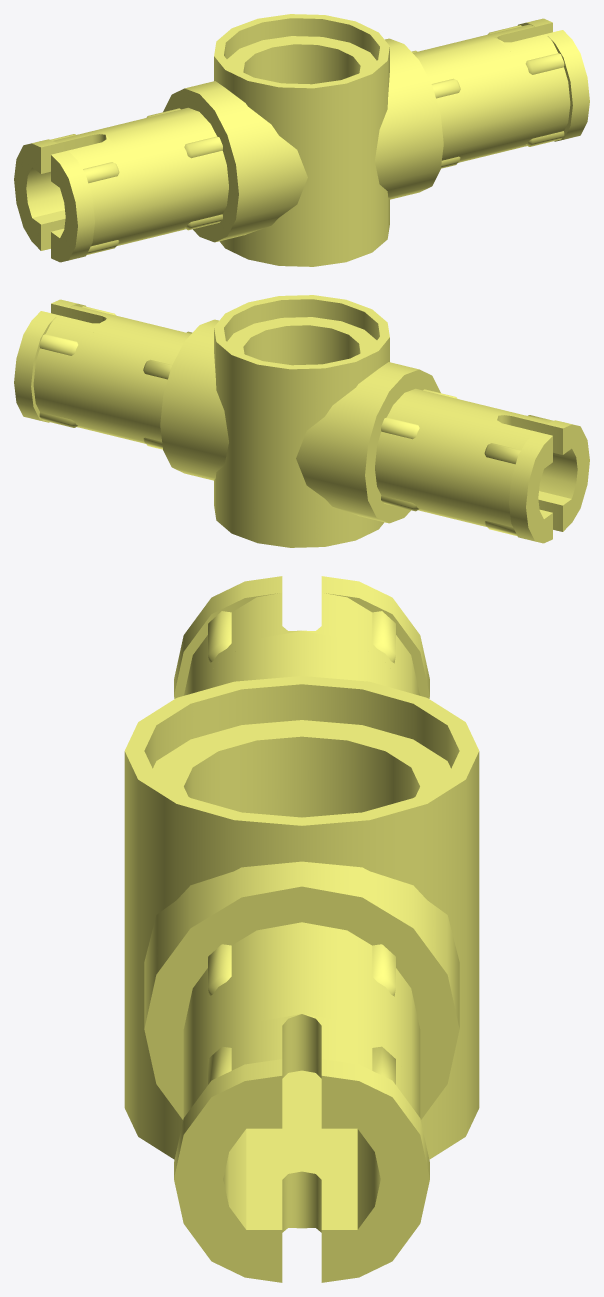
3 renders of one model, top to bottom at view 1: azimuth 30°, elevation 25°; view 2: azimuth 150°, elevation 25°; view 3: azimuth 270°, elevation 25°, orthographic. The views are drawn at different scales.
Parts seen in each view (by area): view 1: 87082.dat; view 2: 87082.dat; view 3: 87082.dat.
Part boxes in pixels (left/top/right/bottom): 87082.dat: left=14, top=14, right=589, bottom=266; 87082.dat: left=14, top=295, right=589, bottom=547; 87082.dat: left=124, top=576, right=479, bottom=1282.
Bounding box in the file's own units: 0.024 × 0.008 × 0.0072.
